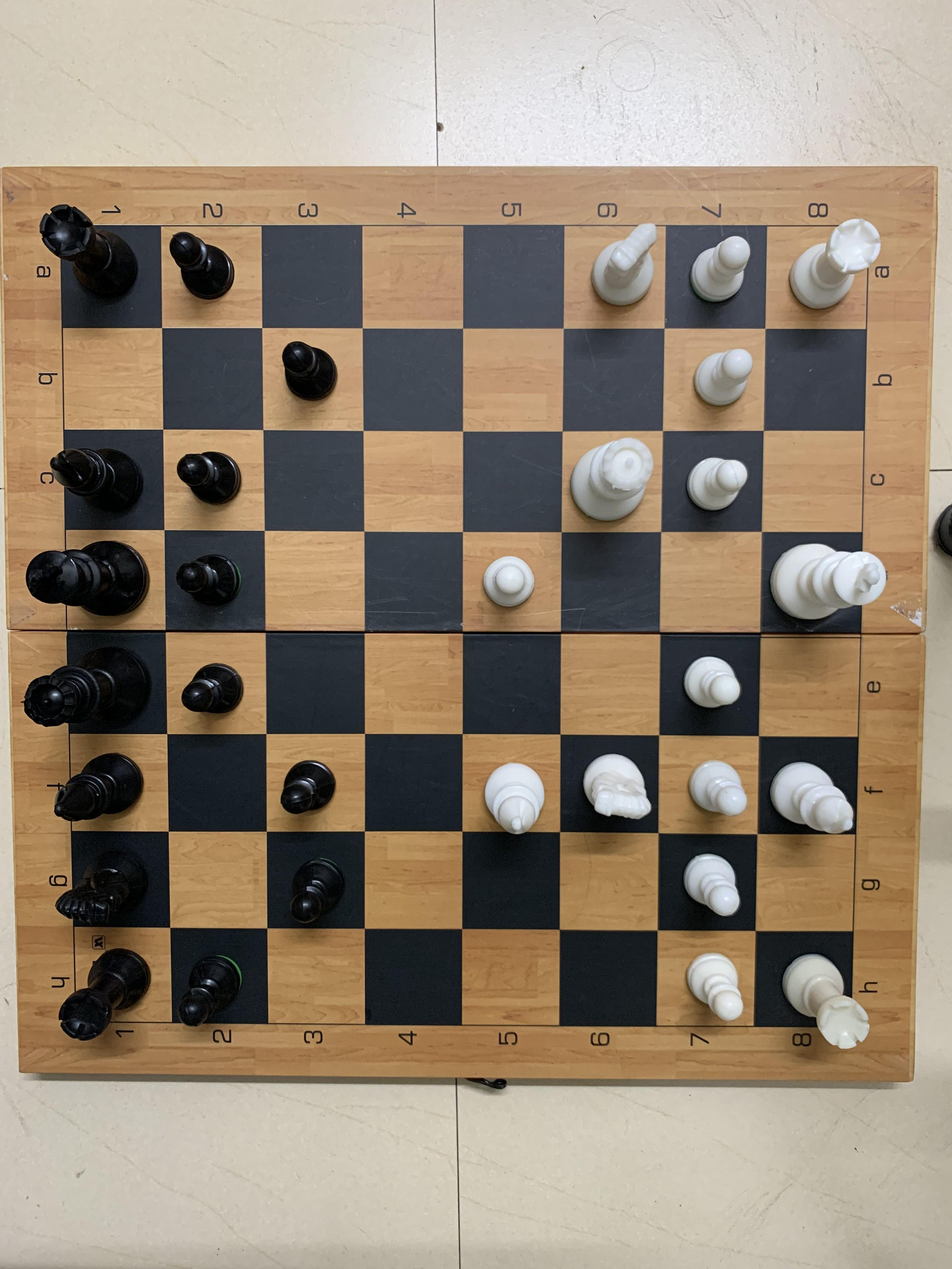black_bishop: (35, 419, 145, 528), (36, 742, 153, 834)
black_king: (16, 523, 148, 633)
black_knight: (46, 841, 158, 940)
black_pawn: (173, 938, 265, 1038), (164, 222, 254, 313), (167, 433, 252, 527), (264, 328, 352, 417), (279, 839, 358, 934), (170, 653, 254, 735), (172, 540, 255, 616), (275, 751, 357, 824)
black_queen: (17, 638, 158, 737)
black_rook: (28, 189, 143, 314), (47, 951, 157, 1050)
white_bishop: (765, 738, 863, 853), (466, 746, 558, 839)
white_king: (771, 534, 895, 633)
white_knight: (579, 219, 677, 322), (568, 745, 654, 830)
white_pawn: (677, 438, 765, 541), (666, 940, 756, 1032), (671, 738, 755, 836), (669, 644, 750, 737), (685, 222, 759, 318), (669, 844, 751, 930), (680, 329, 760, 415), (469, 542, 550, 620)
white_queen: (570, 435, 662, 524)
white_rook: (760, 937, 890, 1061), (782, 216, 885, 314)
